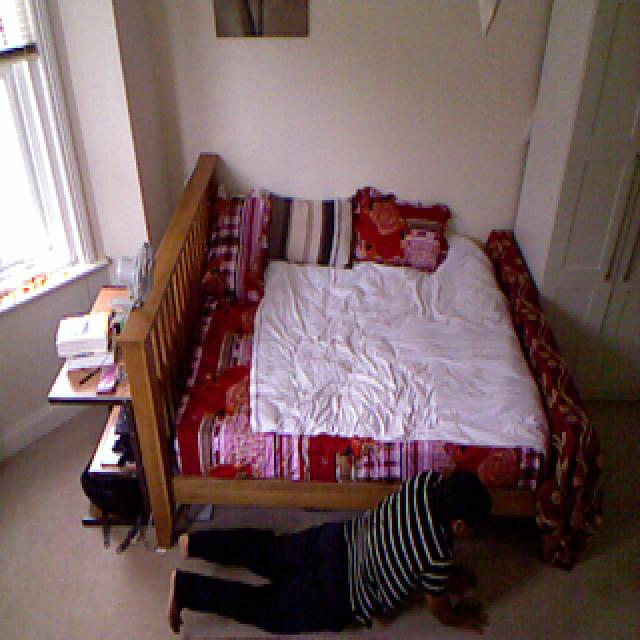lying: (154, 520, 572, 640)
